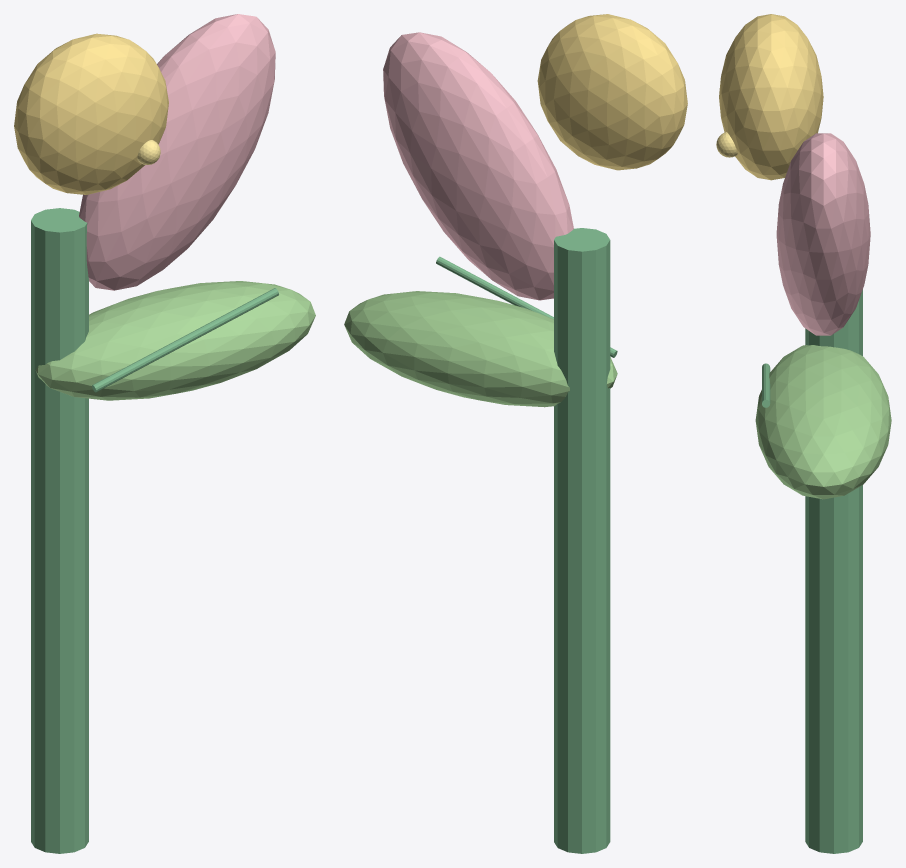
File: flower.glb
3 renders of one model, left to right at view 1: azimuth 30°, elevation 25°; view 2: azimuth 150°, elevation 25°; view 3: azimuth 270°, elevation 25°, orthographic. The views are drawn at different scales.
Parts seen in each view (by area): view 1: stem, petal, leaf, flower_center, leaf_vein; view 2: stem, petal, leaf, flower_center, leaf_vein; view 3: stem, leaf, petal, flower_center, pollen, leaf_vein.
Part boxes in pixels (left/top/right/bottom): stem: left=31, top=208, right=88, bottom=853; petal: left=79, top=14, right=275, bottom=290; leaf: left=35, top=281, right=315, bottom=400; flower_center: left=14, top=33, right=168, bottom=194; leaf_vein: left=92, top=288, right=278, bottom=392; stem: left=554, top=228, right=610, bottom=853; petal: left=383, top=32, right=573, bottom=300; leaf: left=344, top=291, right=617, bottom=407; flower_center: left=537, top=14, right=687, bottom=170; leaf_vein: left=436, top=256, right=617, bottom=357; stem: left=805, top=289, right=862, bottom=853; leaf: left=755, top=345, right=891, bottom=499; petal: left=776, top=133, right=870, bottom=335; flower_center: left=719, top=14, right=823, bottom=180; pollen: left=716, top=132, right=737, bottom=157; leaf_vein: left=762, top=363, right=770, bottom=407.
Size of the model in its own units: 1.01 by 2.5 by 0.4841.
